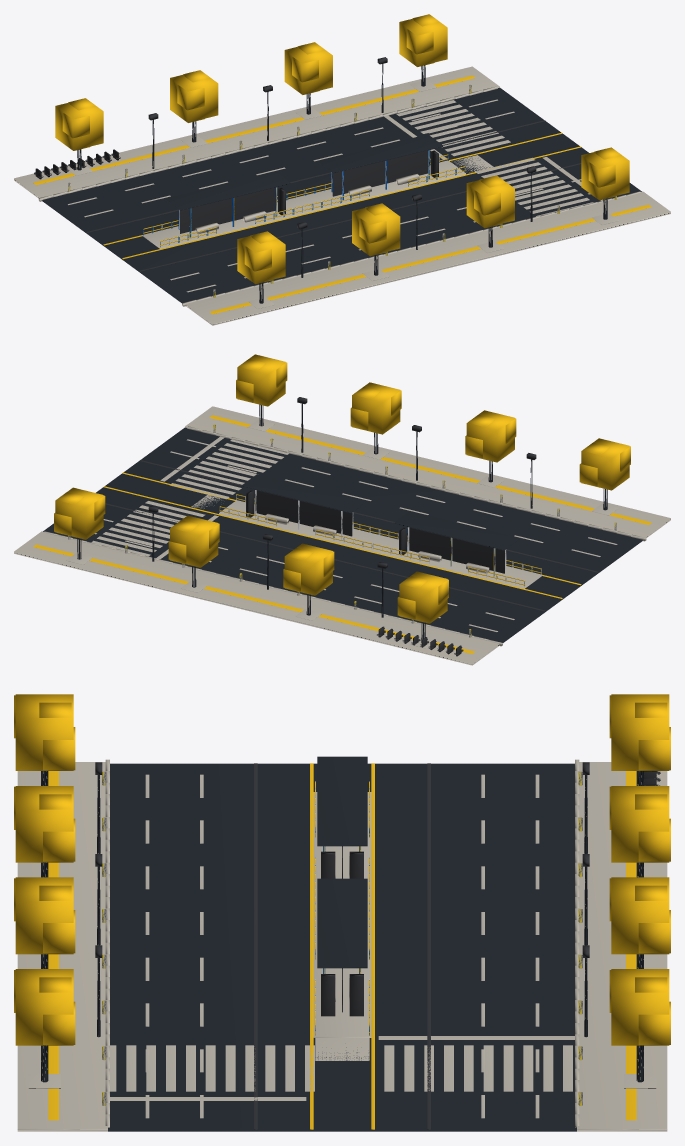
3 renders of one model, top to bottom at view 1: azimuth 30°, elevation 25°; view 2: azimuth 150°, elevation 25°; view 3: azimuth 270°, elevation 25°, orthographic. The views are drawn at different scales.
Visible parts, largest first — view 1: jongno_asphalt_road, jongno_sidewalks, jongno_street_furniture, jongno_brt_bus_shelters; view 2: jongno_asphalt_road, jongno_sidewalks, jongno_street_furniture, jongno_brt_bus_shelters; view 3: jongno_asphalt_road, jongno_street_furniture, jongno_sidewalks, jongno_brt_bus_shelters.
Part boxes in pixels (x1,y1,x2,y2): jongno_asphalt_road: [42, 87, 641, 302]; jongno_sidewalks: [14, 66, 670, 325]; jongno_street_furniture: [34, 14, 629, 309]; jongno_brt_bus_shelters: [142, 134, 493, 248]; jongno_asphalt_road: [43, 427, 642, 642]; jongno_sidewalks: [14, 406, 670, 665]; jongno_street_furniture: [54, 354, 630, 656]; jongno_brt_bus_shelters: [191, 474, 542, 588]; jongno_asphalt_road: [108, 763, 576, 1131]; jongno_street_furniture: [14, 694, 670, 1105]; jongno_sidewalks: [17, 759, 667, 1131]; jongno_brt_bus_shelters: [313, 756, 371, 1060].
Size of the model in its own units: 48.23 by 6.5 by 36.4.
4 materials, 4 textured.
